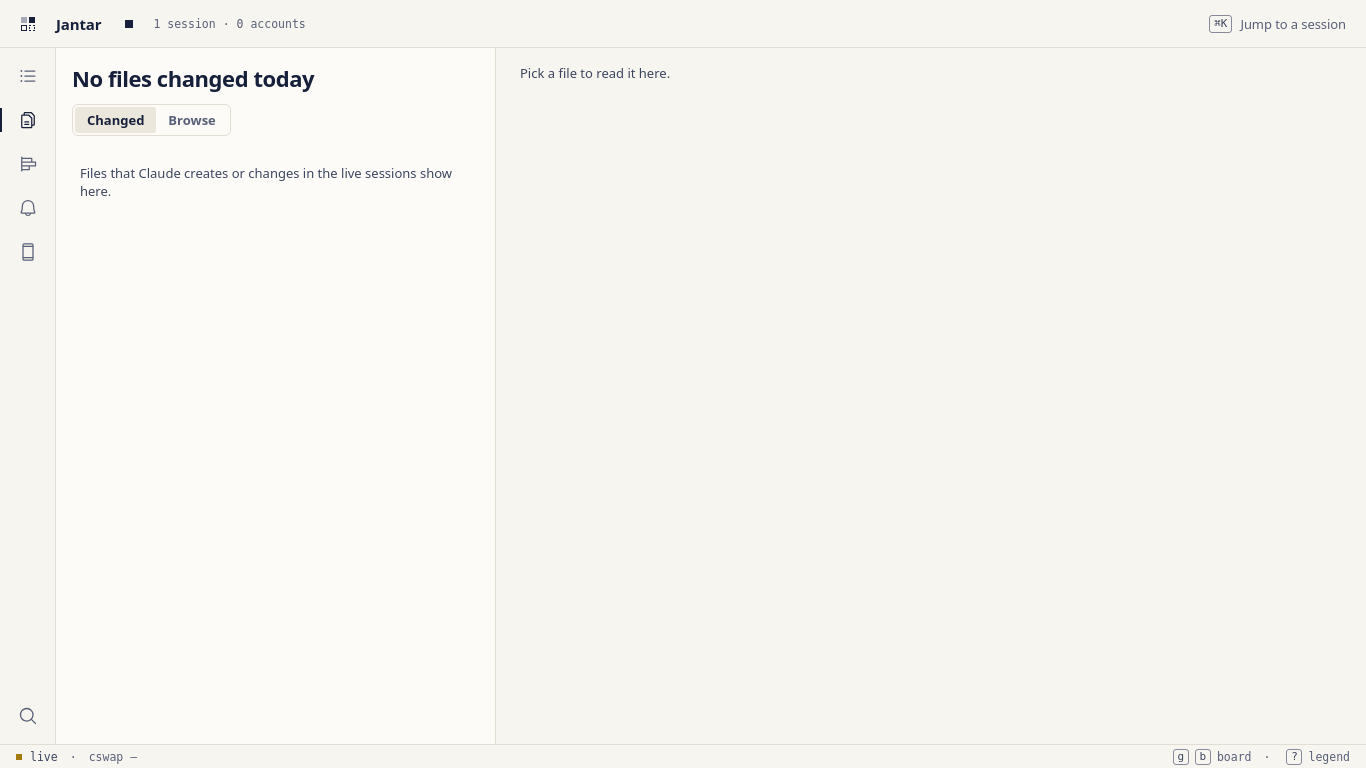
Test: the Files place: browse › lists the roots set on the Mac first, then live sessions with their account
Click the button "Browse" at (192, 120), box [156,107,228,133]
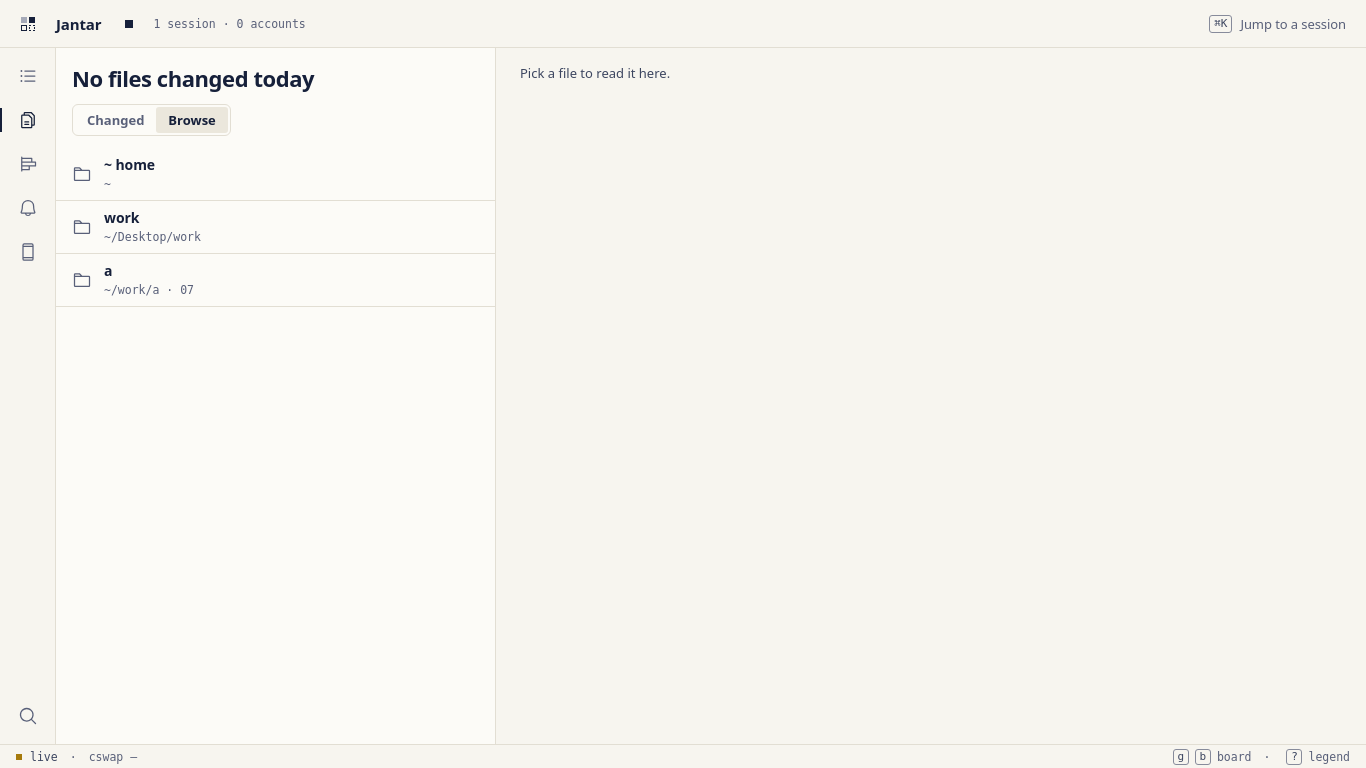
Now the buttons read "~ home~", "work~/Desktop/work", "a~/work/a · 07", in this order, box [56,148,495,200]; [56,201,495,253]; [56,254,495,306]
